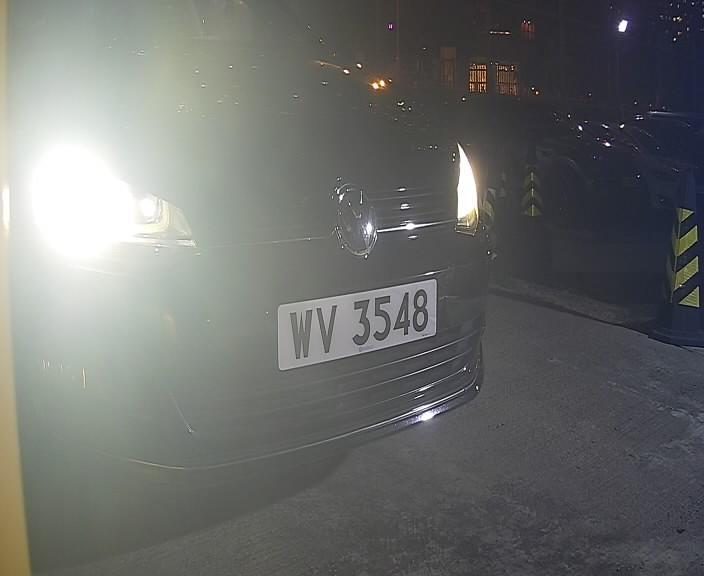License Plate: (277, 271, 441, 371)
